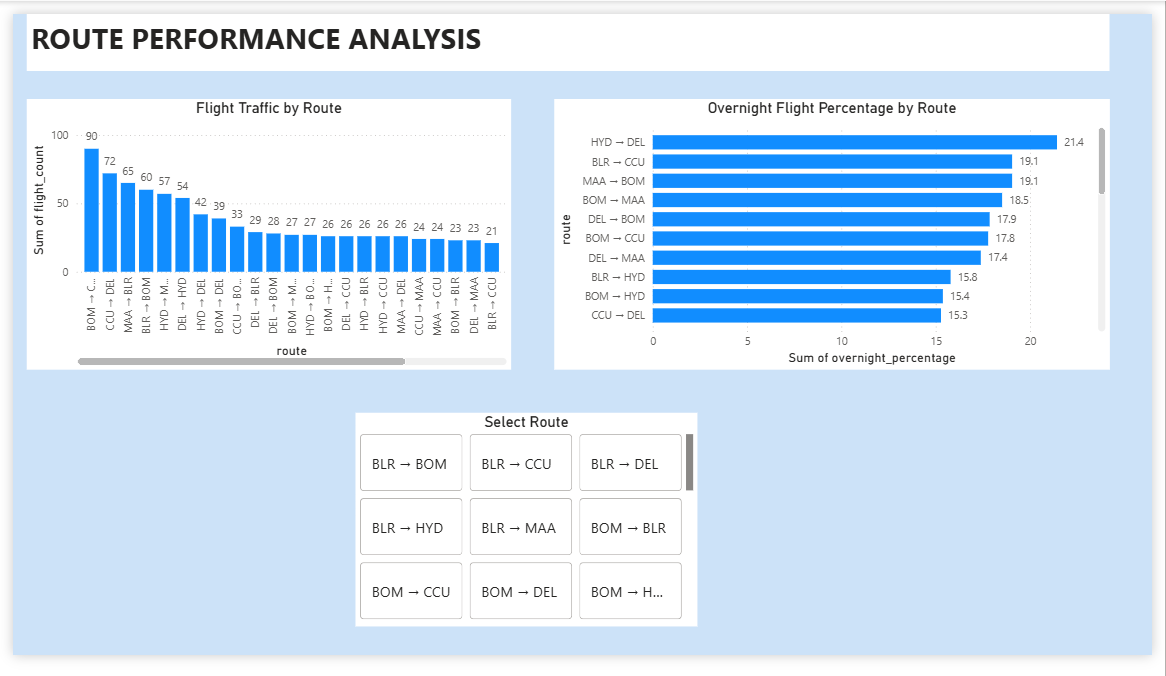

What the dashboard file says about the page in this screenshot:
{"tool":"powerbi","page":{"name":"Route Performance","canvas":[1280,720],"ordinal":2},"visuals":[{"type":"clusteredColumnChart","title":"Flight Traffic by Route","fields":{"Category":["ASG_route_performance.route"],"Y":["Sum(ASG_route_performance.flight_count)"]},"box":[16,96,544,304],"z":0},{"type":"clusteredBarChart","title":"Overnight Flight Percentage by Route","fields":{"Category":["ASG_route_performance.route"],"Y":["Sum(ASG_route_performance.overnight_percentage)"]},"box":[608,96,624,304],"z":1000},{"type":"advancedSlicerVisual","title":"Select Route","fields":{"Values":["ASG_route_performance.route"]},"box":[384,448,384,240],"z":2000},{"type":"textbox","box":[16,0,1216,64],"z":4000}]}

Visuals, with their boxes in screenshot pixels (x1, y1, x2, y2), scaled from the page's 1280x720 canvas onto the 1166x676 screenshot:
"Flight Traffic by Route" clusteredColumnChart: {"x1": 15, "y1": 90, "x2": 510, "y2": 376}
"Overnight Flight Percentage by Route" clusteredBarChart: {"x1": 554, "y1": 90, "x2": 1122, "y2": 376}
"Select Route" advancedSlicerVisual: {"x1": 350, "y1": 421, "x2": 700, "y2": 646}
textbox: {"x1": 15, "y1": 0, "x2": 1122, "y2": 60}
